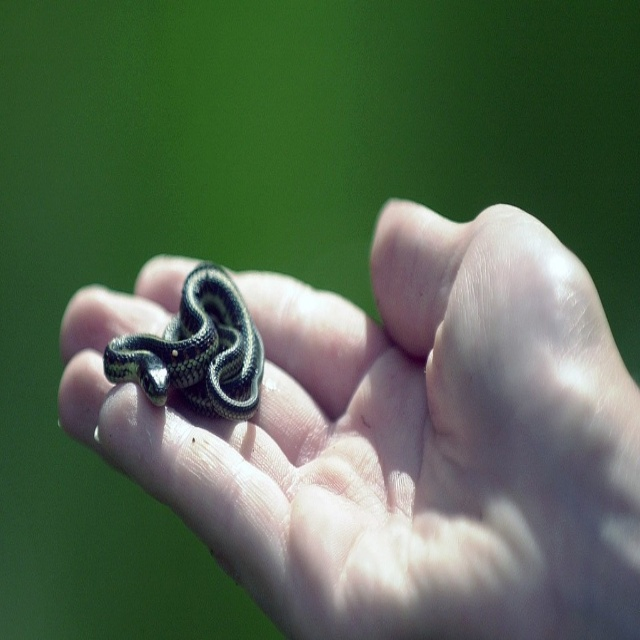Snake: (99, 246, 268, 442)
